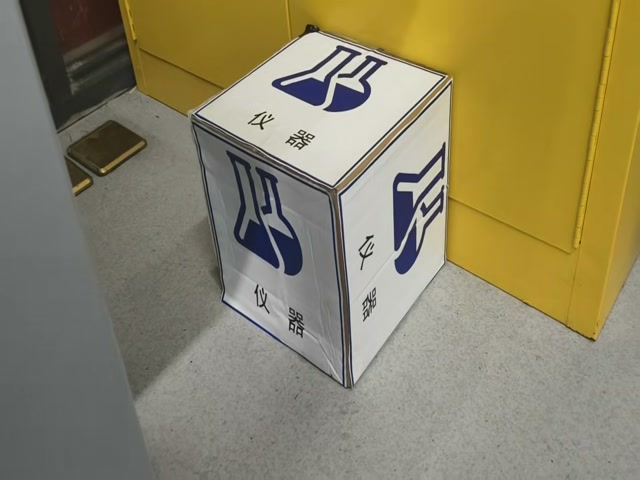Cube_ins: (185, 33, 449, 196)
